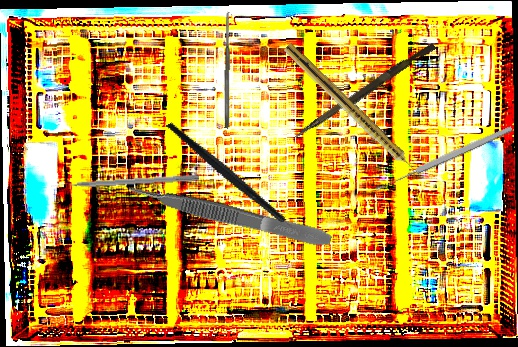Chopper: (165, 88, 314, 269)
Handpiece: (280, 42, 424, 181)
Pusher: (293, 39, 437, 144), (50, 173, 200, 189)
Spatula Surgical: (223, 11, 232, 129)
Surgical Spoon: (374, 124, 514, 193)
Tissue Forceps: (126, 177, 334, 252)
